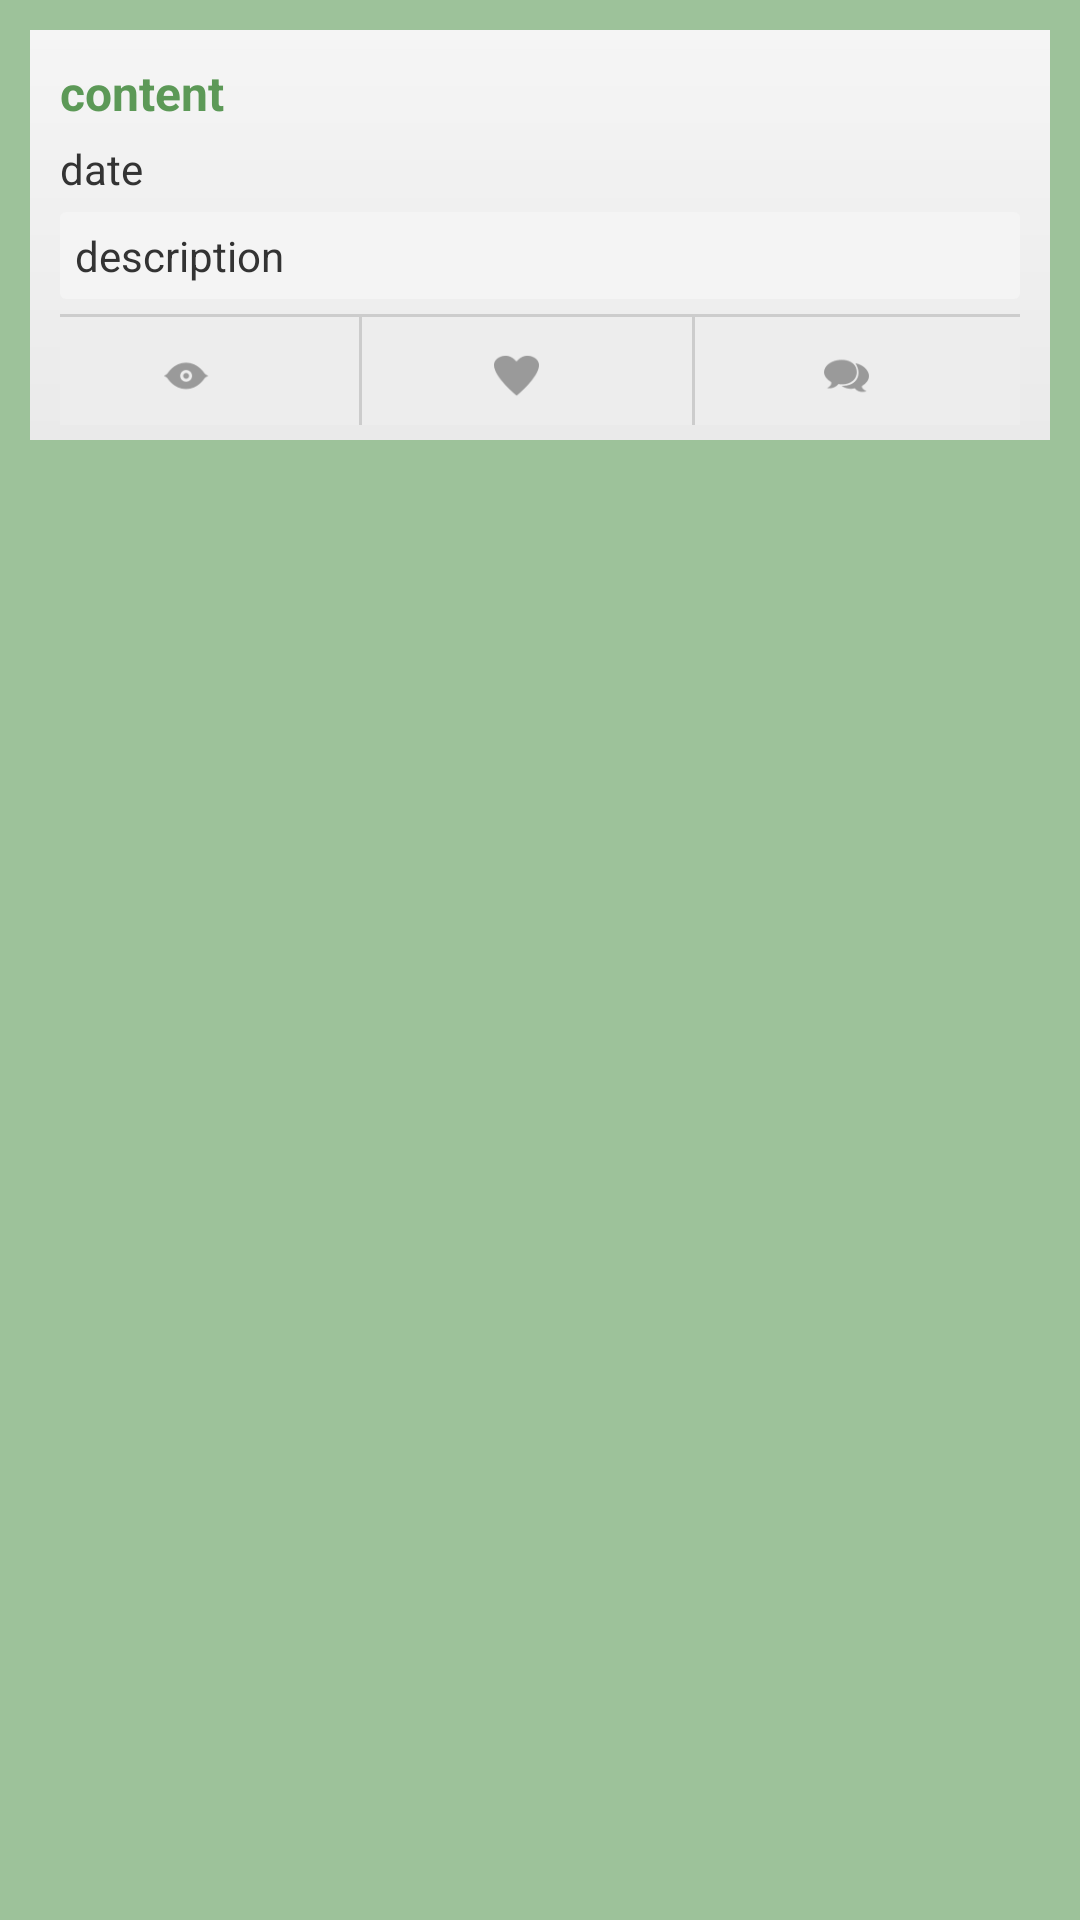

Named icons in this screenshot (1080px×1920px) and their bounding boxes, (x1, y1, x2, y2):
post comments: (824, 360, 869, 392)
post likes: (494, 356, 539, 396)
post views: (164, 362, 208, 389)
